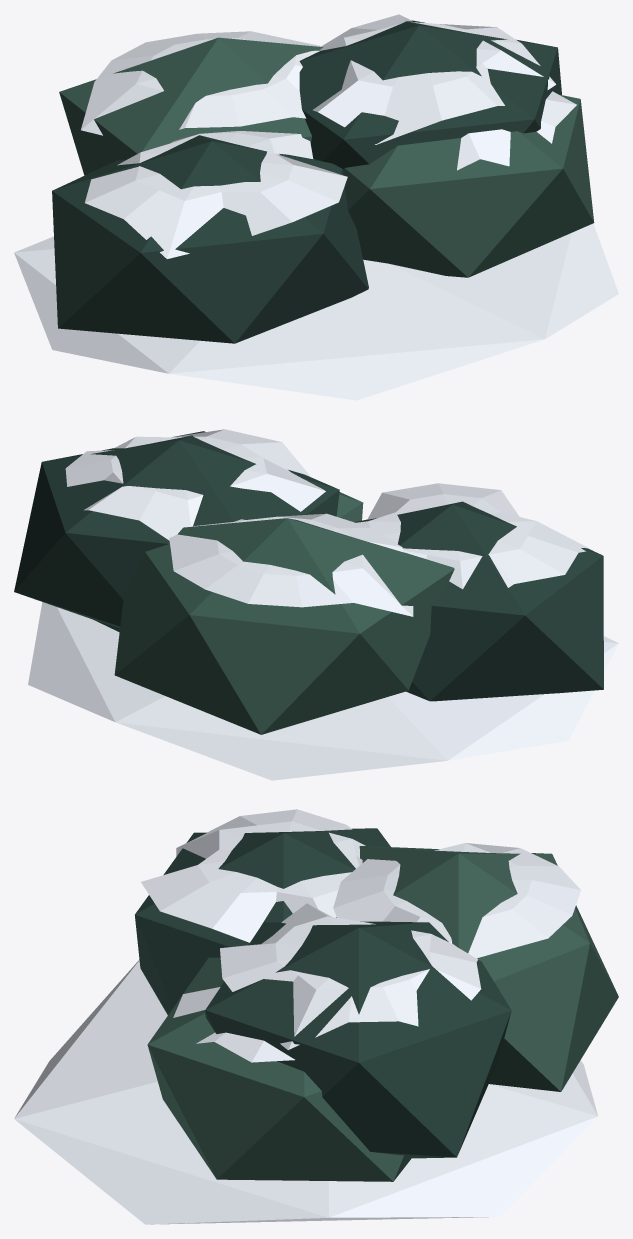
Rendered from TREE_SHRUB.glb.
The picture shows the model from 3 angles, top to bottom: view 1: azimuth 30°, elevation 25°; view 2: azimuth 150°, elevation 25°; view 3: azimuth 270°, elevation 25°; orthographic projection. The views are drawn at different scales.
Parts seen in each view (by area): view 1: TREE_SHRUB; view 2: TREE_SHRUB; view 3: TREE_SHRUB.
Boxes of the visible parts, <box> form: TREE_SHRUB: <box>14,14,618,400</box>; TREE_SHRUB: <box>14,429,618,780</box>; TREE_SHRUB: <box>14,809,618,1224</box>.
Bounding box in the file's own units: 1.64 × 0.6635 × 1.44.
